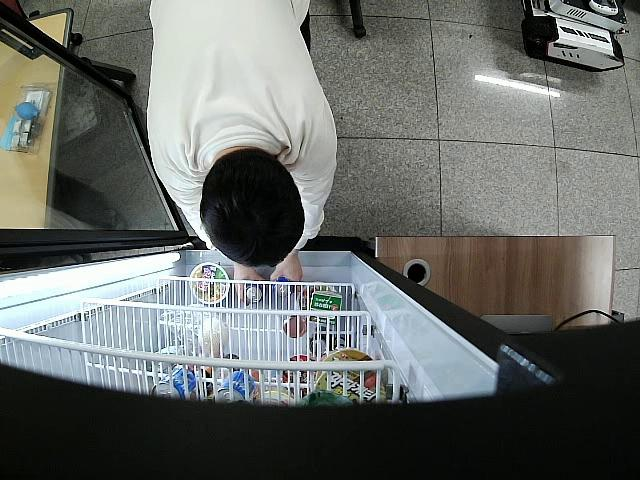00_hand: (269, 259, 304, 296), (231, 269, 266, 304)
